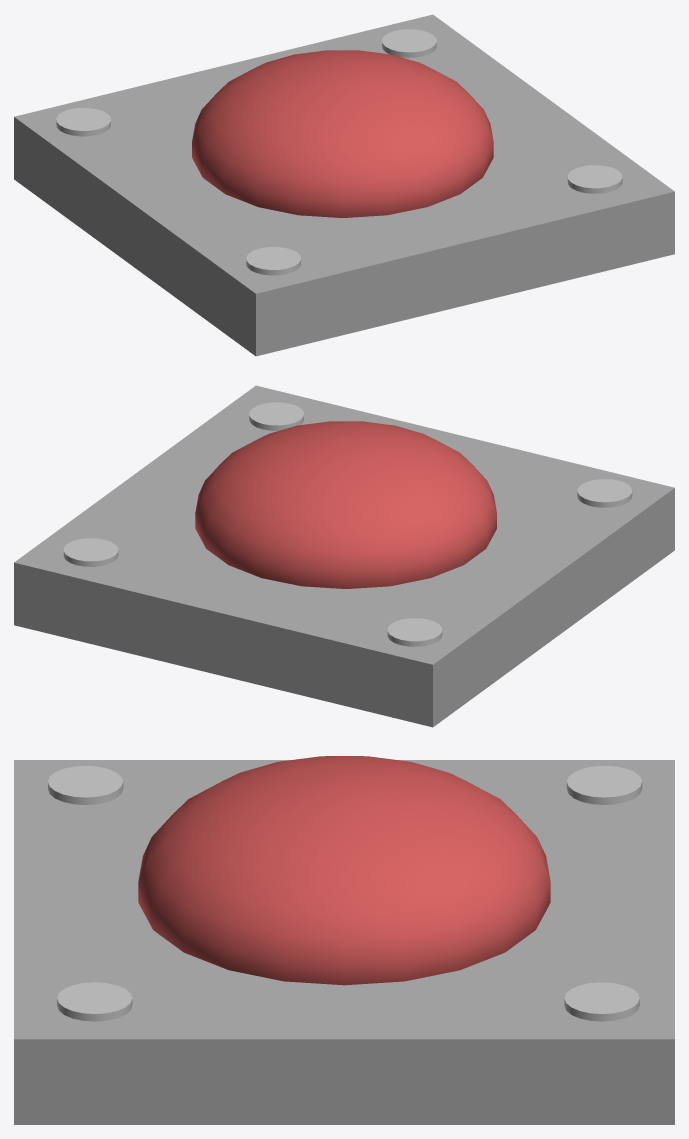
The model's file is button_fbx.fbx.
The picture shows the model from 3 angles, top to bottom: view 1: azimuth 30°, elevation 25°; view 2: azimuth 150°, elevation 25°; view 3: azimuth 270°, elevation 25°; orthographic projection. The views are drawn at different scales.
Parts seen in each view (by area): view 1: pCube1, pSphere1, pCylinder2, pCylinder3, pCylinder4, pCylinder1; view 2: pCube1, pSphere1, pCylinder4, pCylinder3, pCylinder1, pCylinder2; view 3: pCube1, pSphere1, pCylinder4, pCylinder2, pCylinder1, pCylinder3.
Part boxes in pixels (<box>): pCube1: <box>14,14,674,356</box>; pSphere1: <box>192,50,493,217</box>; pCylinder2: <box>567,165,622,193</box>; pCylinder3: <box>246,247,300,275</box>; pCylinder4: <box>56,108,110,136</box>; pCylinder1: <box>382,29,436,57</box>; pCube1: <box>14,385,674,727</box>; pSphere1: <box>195,421,496,588</box>; pCylinder4: <box>387,618,442,646</box>; pCylinder3: <box>577,479,632,507</box>; pCylinder1: <box>63,538,118,566</box>; pCylinder2: <box>249,402,303,430</box>; pCube1: <box>14,760,674,1124</box>; pSphere1: <box>138,756,550,985</box>; pCylinder4: <box>566,765,642,804</box>; pCylinder2: <box>57,982,132,1021</box>; pCylinder1: <box>564,982,639,1021</box>; pCylinder3: <box>48,765,123,804</box>.
Size of the model in its own units: 7 by 2.28 by 7.
